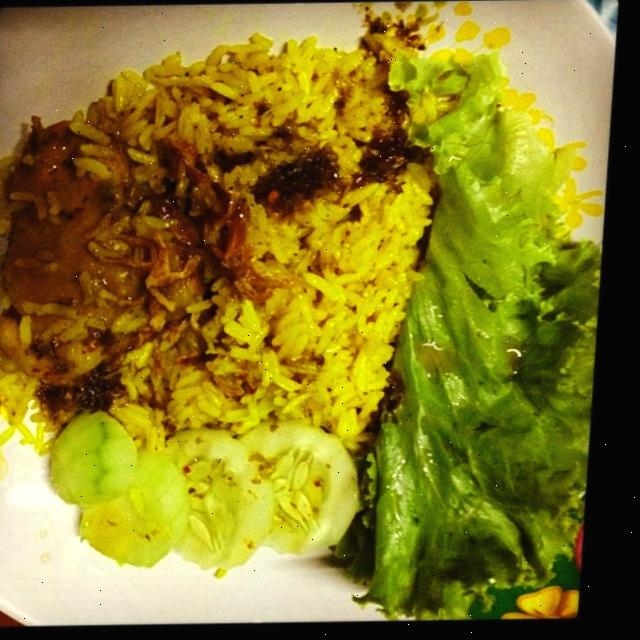米饭主食: (0, 5, 620, 627)
